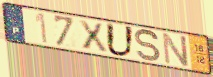1: (35, 12, 49, 45)
7: (53, 14, 76, 49)
N: (161, 31, 191, 68)
S: (134, 28, 163, 63)
U: (105, 21, 136, 58)
X: (77, 19, 110, 53)
